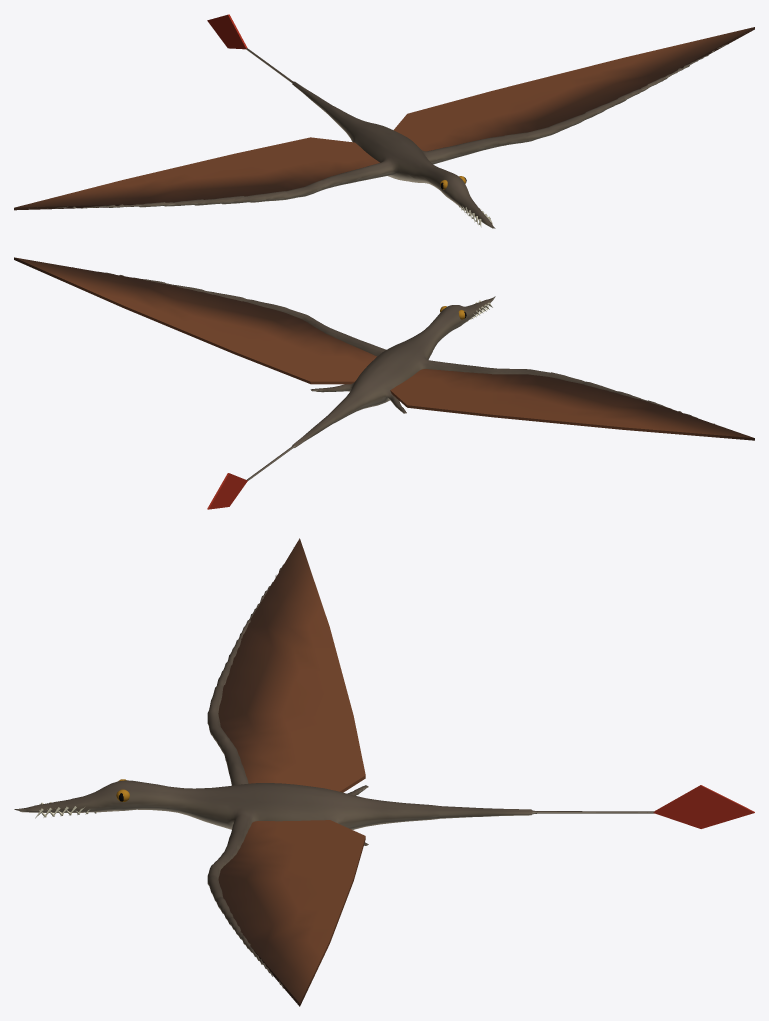
Rendered from Rhamphorhynchus.fbx.
The picture shows the model from 3 angles, top to bottom: view 1: azimuth 30°, elevation 25°; view 2: azimuth 150°, elevation 25°; view 3: azimuth 270°, elevation 25°; orthographic projection. The views are drawn at different scales.
Parts seen in each view (by area): view 1: Rhamphorhynchus; view 2: Rhamphorhynchus; view 3: Rhamphorhynchus.
Boxes of the visible parts, <box> form: Rhamphorhynchus: <box>14,14,754,228</box>; Rhamphorhynchus: <box>14,257,754,509</box>; Rhamphorhynchus: <box>14,538,754,1006</box>.
Bounding box in the file's own units: 1.84 × 0.1186 × 1.24.
